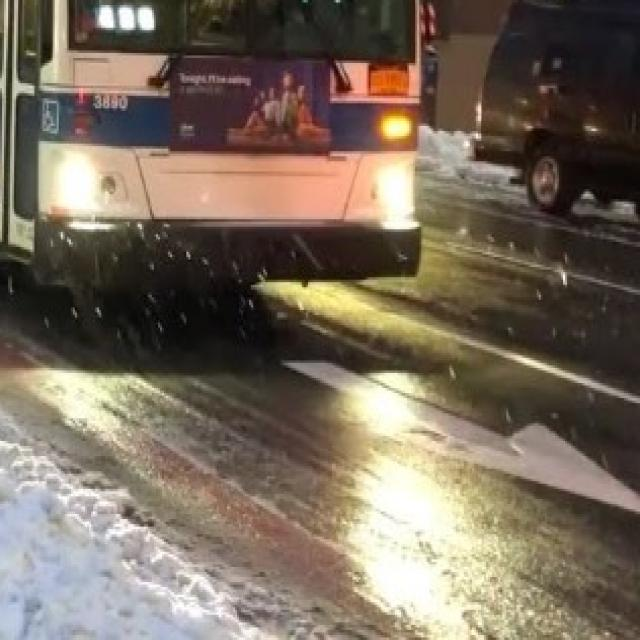bus: (0, 0, 423, 290)
car: (466, 0, 640, 214)
